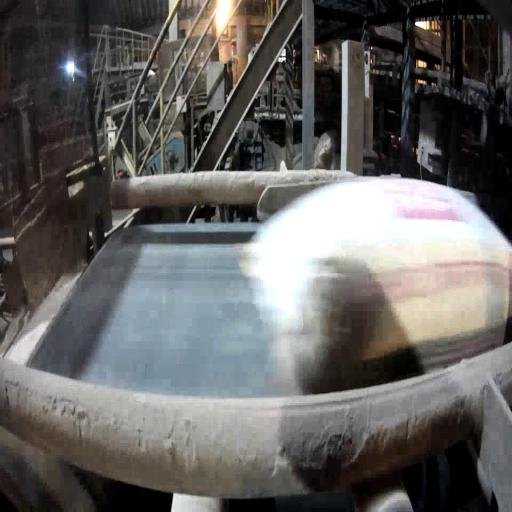c-belt-sack-count: (241, 178, 512, 393)
